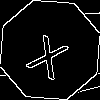X: (25, 25, 75, 81)
